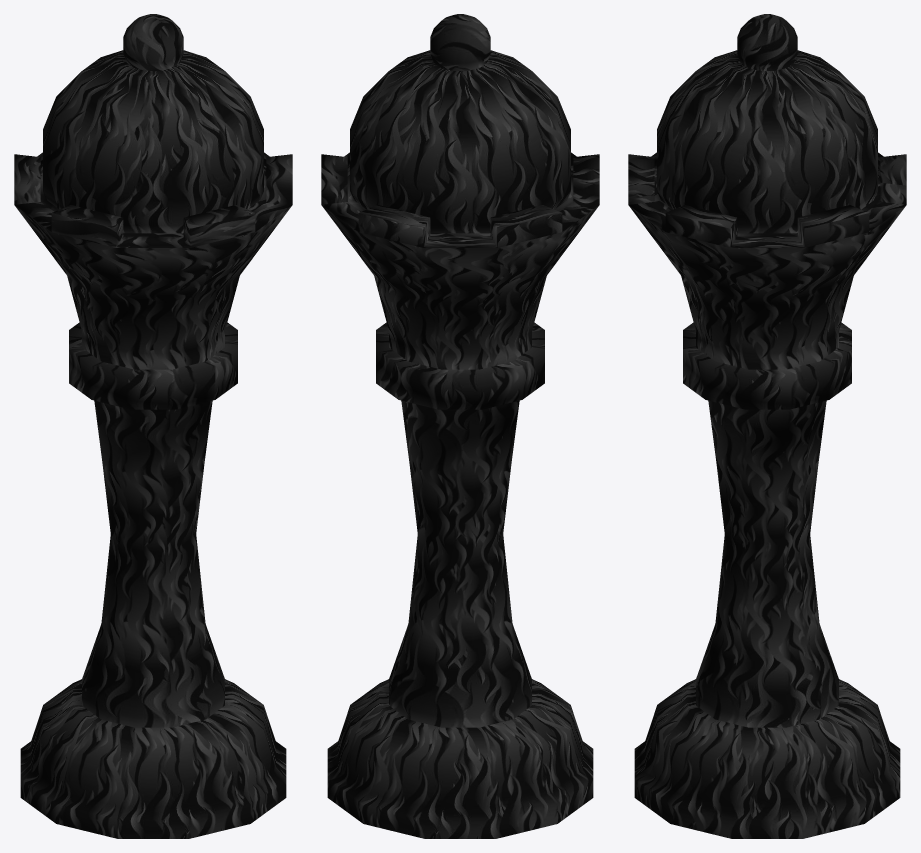
The model's file is Queen.glb.
3 views of the same model, side by side, from view 1: azimuth 30°, elevation 25°; view 2: azimuth 150°, elevation 25°; view 3: azimuth 270°, elevation 25° (orthographic).
Visible parts, largest first — view 1: Queen; view 2: Queen; view 3: Queen.
Boxes of the visible parts, bbox=[...] form: Queen: bbox=[14, 14, 292, 838]; Queen: bbox=[321, 14, 599, 838]; Queen: bbox=[628, 14, 906, 838].
Bounding box in the file's own units: 0.1318 × 0.4 × 0.1318.
1 material, 1 textured.
